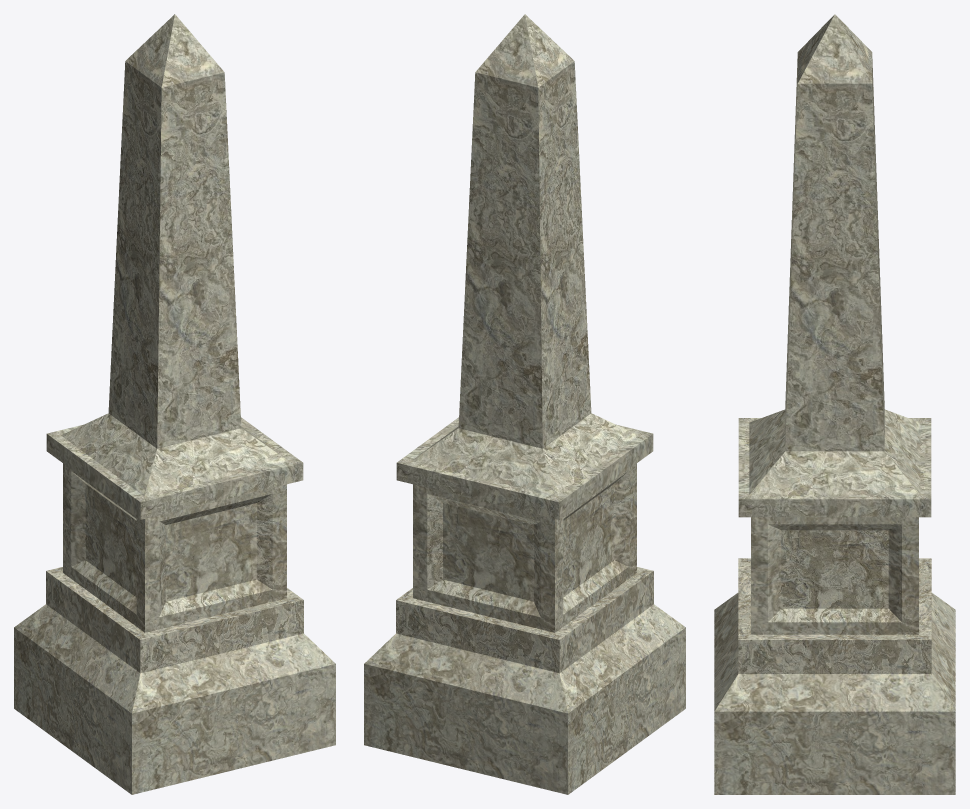
The model's file is obelisk.glb.
3 views of the same model, side by side, from view 1: azimuth 30°, elevation 25°; view 2: azimuth 150°, elevation 25°; view 3: azimuth 270°, elevation 25° (orthographic). The views are drawn at different scales.
Visible parts, largest first — view 1: Obelisk3; view 2: Obelisk3; view 3: Obelisk3.
Boxes of the visible parts, <box> form: Obelisk3: <box>14,14,335,794</box>; Obelisk3: <box>364,14,685,794</box>; Obelisk3: <box>714,14,955,794</box>.
Size of what is drawn, in the model's own units: 2.22 by 7.4 by 2.22.
Materials: 1 (1 with a texture image).
